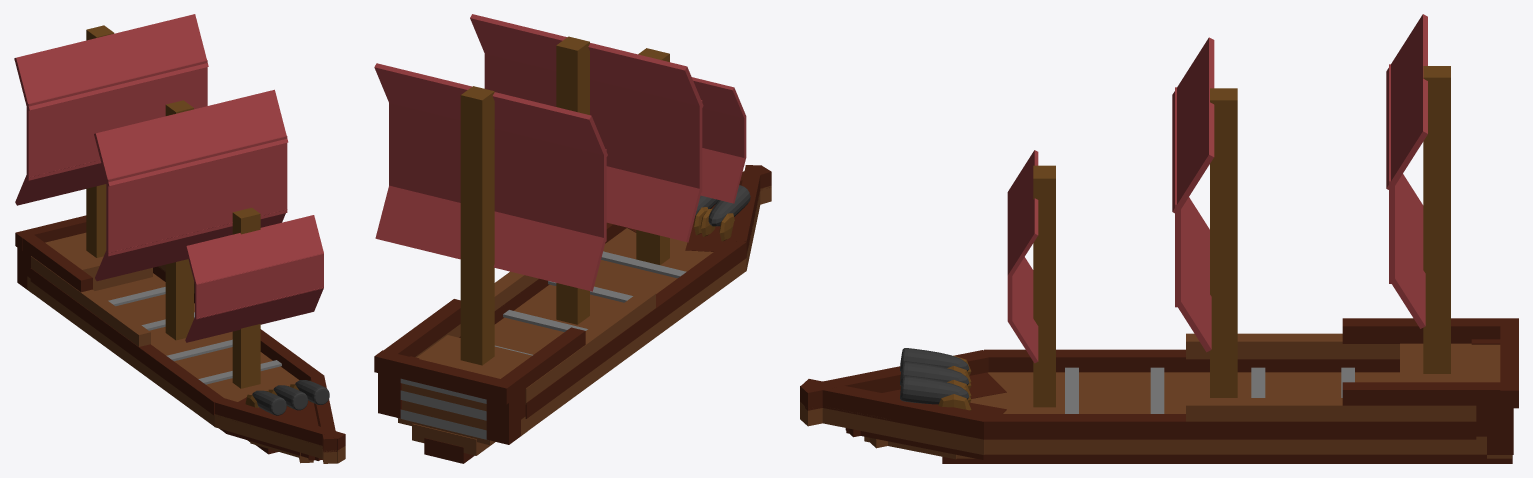
Rendered from EvilLevel3Boat.fbx.
3 renders of one model, left to right at view 1: azimuth 30°, elevation 25°; view 2: azimuth 150°, elevation 25°; view 3: azimuth 270°, elevation 25°, orthographic. The views are drawn at different scales.
Visible parts, largest first — view 1: Cube.003, Cube.006, Cube.038, Cube.039, Cube.005, Cube.025, Cube.026, Cube.018, Cube.024, Cube.007, Cube.002, Cube.027 (+19 smaller); view 2: Cube.039, Cube.003, Cube.037, Cube.005, Cube.040, Cube.038, Cube.006, Cube.007, Cube.018, Cube.019, Cube.002, Cube.022 (+21 smaller); view 3: Cube.005, Cube.015, Cube.002, Cube.040, Cube.018, Cube.051, Cube.027, Cube.006, Cube.038, Cube.017, Cube.023, Cube.053 (+18 smaller).
Boxes of the visible parts, left/top/right/bottom form: Cube.003: left=106, top=136, right=287, bottom=256; Cube.006: left=94, top=89, right=288, bottom=186; Cube.038: left=14, top=14, right=208, bottom=110; Cube.039: left=26, top=60, right=207, bottom=180; Cube.005: left=27, top=273, right=299, bottom=426; Cube.025: left=185, top=215, right=323, bottom=285; Cube.026: left=195, top=253, right=323, bottom=319; Cube.018: left=30, top=268, right=223, bottom=415; Cube.024: left=185, top=287, right=323, bottom=342; Cube.007: left=95, top=209, right=287, bottom=281; Cube.002: left=165, top=100, right=193, bottom=340; Cube.027: left=232, top=207, right=260, bottom=388; Cube.039: left=389, top=103, right=606, bottom=241; Cube.003: left=484, top=54, right=702, bottom=192; Cube.037: left=375, top=185, right=606, bottom=291; Cube.005: left=494, top=228, right=746, bottom=435; Cube.040: left=460, top=86, right=494, bottom=365; Cube.038: left=374, top=63, right=607, bottom=157; Cube.006: left=470, top=14, right=703, bottom=107; Cube.007: left=606, top=166, right=701, bottom=242; Cube.018: left=525, top=240, right=746, bottom=418; Cube.019: left=398, top=335, right=531, bottom=445; Cube.002: left=556, top=36, right=589, bottom=324; Cube.022: left=374, top=350, right=514, bottom=404; Cube.005: left=982, top=372, right=1486, bottom=454; Cube.015: left=984, top=414, right=1476, bottom=439; Cube.002: left=1210, top=88, right=1237, bottom=397; Cube.040: left=1423, top=66, right=1450, bottom=373; Cube.018: left=984, top=349, right=1399, bottom=372; Cube.051: left=1186, top=398, right=1476, bottom=421; Cube.027: left=1033, top=165, right=1055, bottom=407; Cube.006: left=1172, top=37, right=1214, bottom=214; Cube.038: left=1386, top=14, right=1427, bottom=191; Cube.017: left=801, top=379, right=990, bottom=439; Cube.023: left=1186, top=333, right=1399, bottom=359; Cube.053: left=1342, top=382, right=1500, bottom=407.
Bounding box in the file's own units: 2001 × 3036 × 5184.
